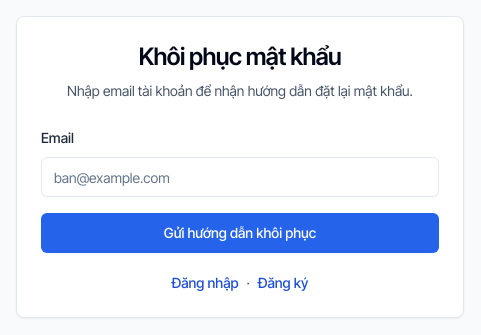
Test case: Auth pages › submits forgot password and shows enumeration-safe success copy
Type "user@example.com" into the field labelled "Email" at (240,177), box [41, 157, 439, 197]
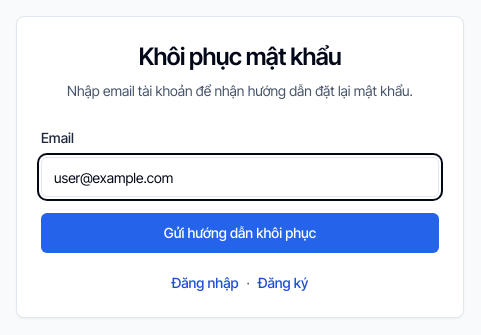
Click the button "Gửi hướng dẫn khôi phục" at (240,233), box [41, 213, 439, 253]
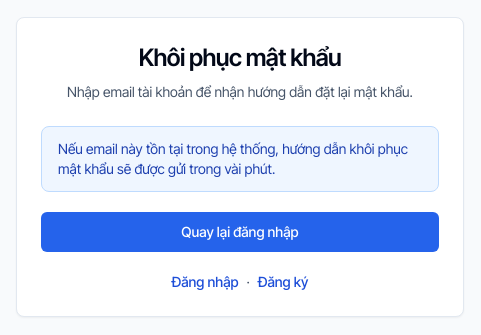
Expected: the text "Nếu email này tồn tại trong hệ thống, hướng dẫn khôi phục mật khẩu sẽ được gửi trong vài phút." is shown, [58, 140, 408, 177]
